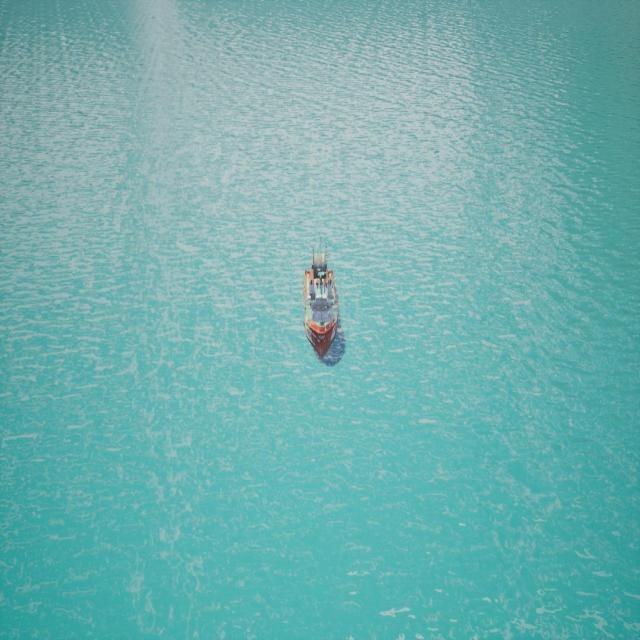tug boat: (303, 259, 341, 367)
